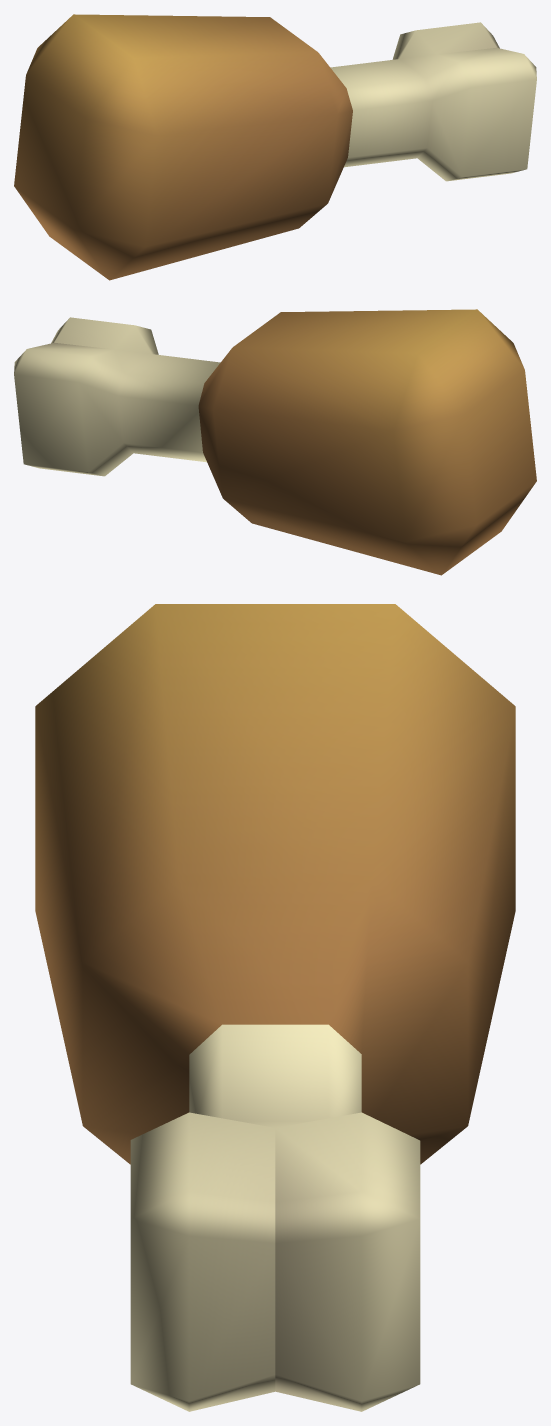
Rendered from chicken_drumstick.fbx.
3 views of the same model, one above another, from view 1: azimuth 30°, elevation 25°; view 2: azimuth 150°, elevation 25°; view 3: azimuth 270°, elevation 25° (orthographic). The views are drawn at different scales.
Parts seen in each view (by area): view 1: chicken_drumstick; view 2: chicken_drumstick; view 3: chicken_drumstick.
Part boxes in pixels (bbox=[...]): chicken_drumstick: bbox=[14, 14, 536, 280]; chicken_drumstick: bbox=[14, 309, 536, 575]; chicken_drumstick: bbox=[35, 604, 515, 1411].
Size of the model in its own units: 50.69 by 22.25 by 22.4.
